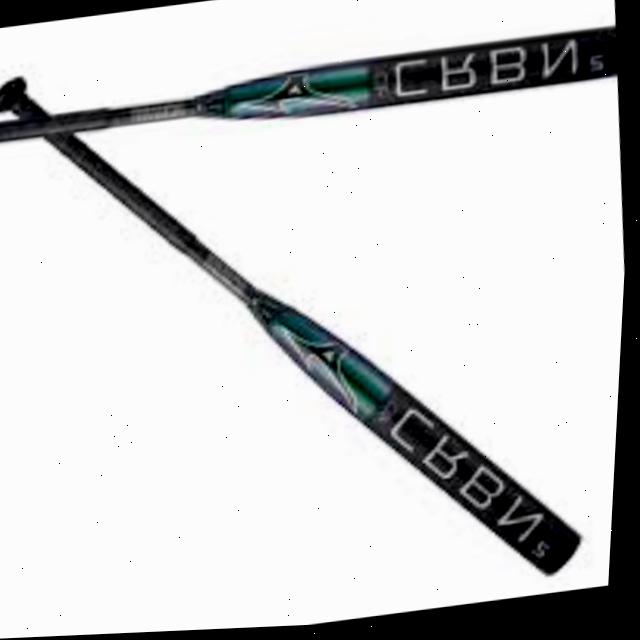baseball bat: (0, 11, 612, 640)
